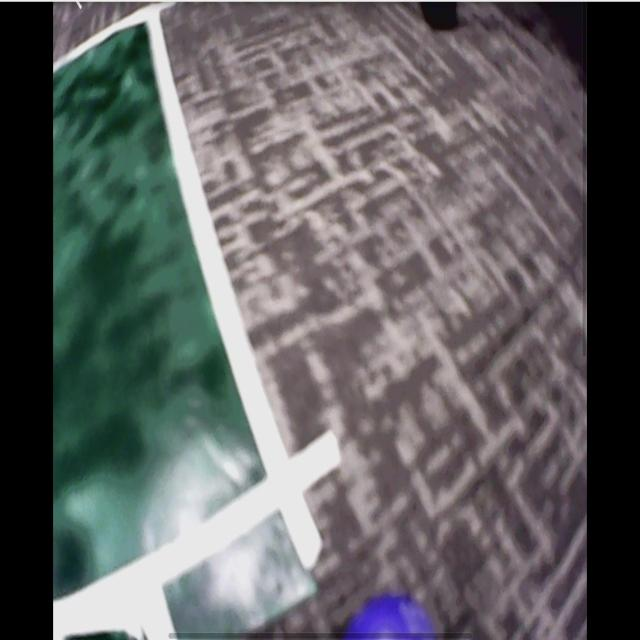ball: (347, 597, 438, 640)
